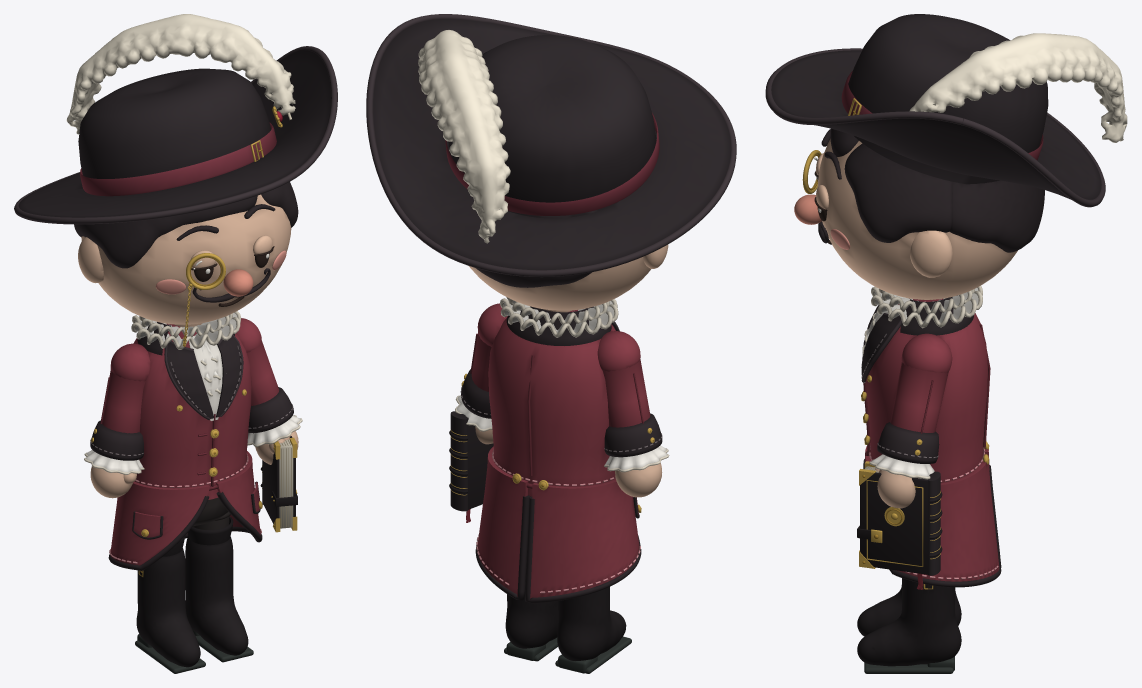
File: lord_vane.glb
3 views of the same model, side by side, from view 1: azimuth 30°, elevation 25°; view 2: azimuth 150°, elevation 25°; view 3: azimuth 270°, elevation 25° (orthographic). The views are drawn at different scales.
Visible parts, largest first — view 1: head, body, leg_l, arm_r, leg_r, arm_l, ledger; view 2: head, body, arm_r, leg_r, ledger, arm_l, leg_l; view 3: head, body, arm_l, ledger, leg_l, leg_r.
Part boxes in pixels (x1=…): head: x1=14, y1=14, x2=337, y2=347; body: x1=108, y1=311, x2=262, y2=570; leg_l: x1=185, y1=512, x2=253, y2=662; arm_r: x1=84, y1=343, x2=150, y2=498; leg_r: x1=135, y1=536, x2=205, y2=673; arm_l: x1=236, y1=318, x2=302, y2=464; ledger: x1=260, y1=436, x2=297, y2=532; head: x1=366, y1=14, x2=736, y2=310; body: x1=475, y1=297, x2=641, y2=603; arm_r: x1=597, y1=331, x2=669, y2=497; leg_r: x1=555, y1=587, x2=631, y2=673; ledger: x1=449, y1=411, x2=493, y2=522; arm_l: x1=455, y1=303, x2=507, y2=444; leg_l: x1=504, y1=558, x2=558, y2=661; head: x1=765, y1=14, x2=1127, y2=299; body: x1=861, y1=285, x2=1001, y2=587; arm_l: x1=869, y1=333, x2=952, y2=508; ledger: x1=857, y1=461, x2=942, y2=589; leg_l: x1=857, y1=578, x2=961, y2=673; leg_r: x1=857, y1=585, x2=961, y2=636.
Size of the model in its own units: 0.9386 by 1.77 by 0.8996.
